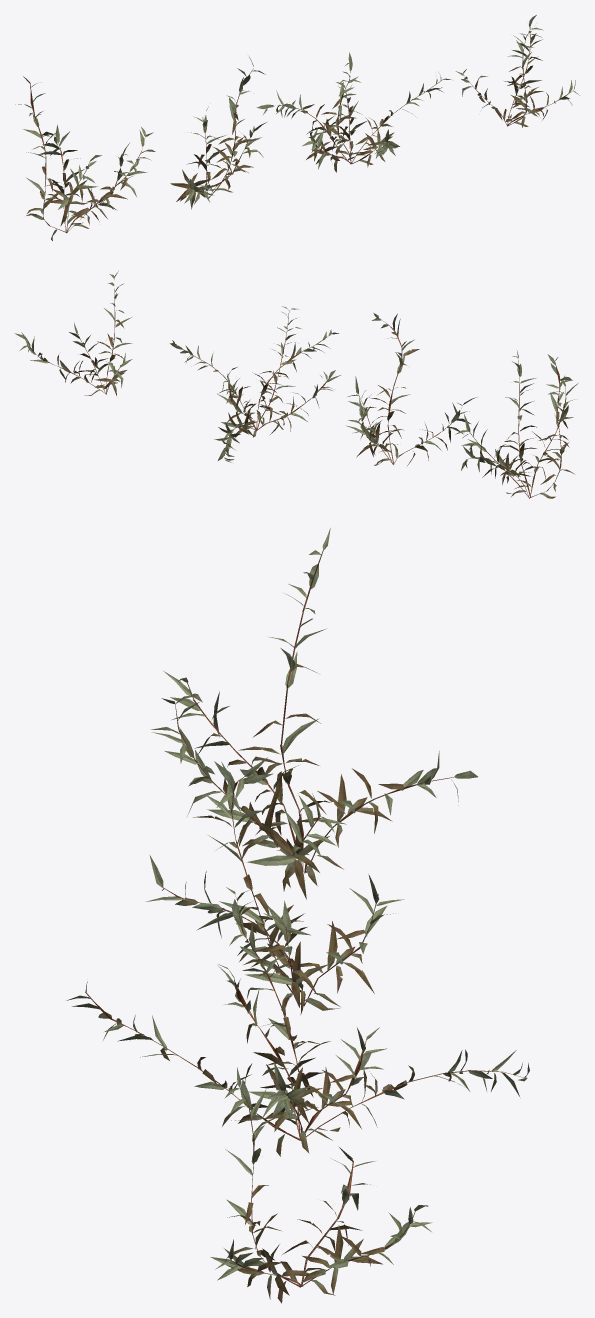
Rendered from shrub_02.glb.
3 renders of one model, top to bottom at view 1: azimuth 30°, elevation 25°; view 2: azimuth 150°, elevation 25°; view 3: azimuth 270°, elevation 25°, orthographic. The views are drawn at different scales.
Parts seen in each view (by area): view 1: lod0; view 2: lod0; view 3: lod0.
Part boxes in pixels (bbox=[...]): lod0: bbox=[15, 15, 579, 240]; lod0: bbox=[14, 271, 578, 498]; lod0: bbox=[67, 528, 529, 1303].
Size of what is drawn, in the model's own units: 6.03 by 1.69 by 2.28.
1 material, 1 textured.
